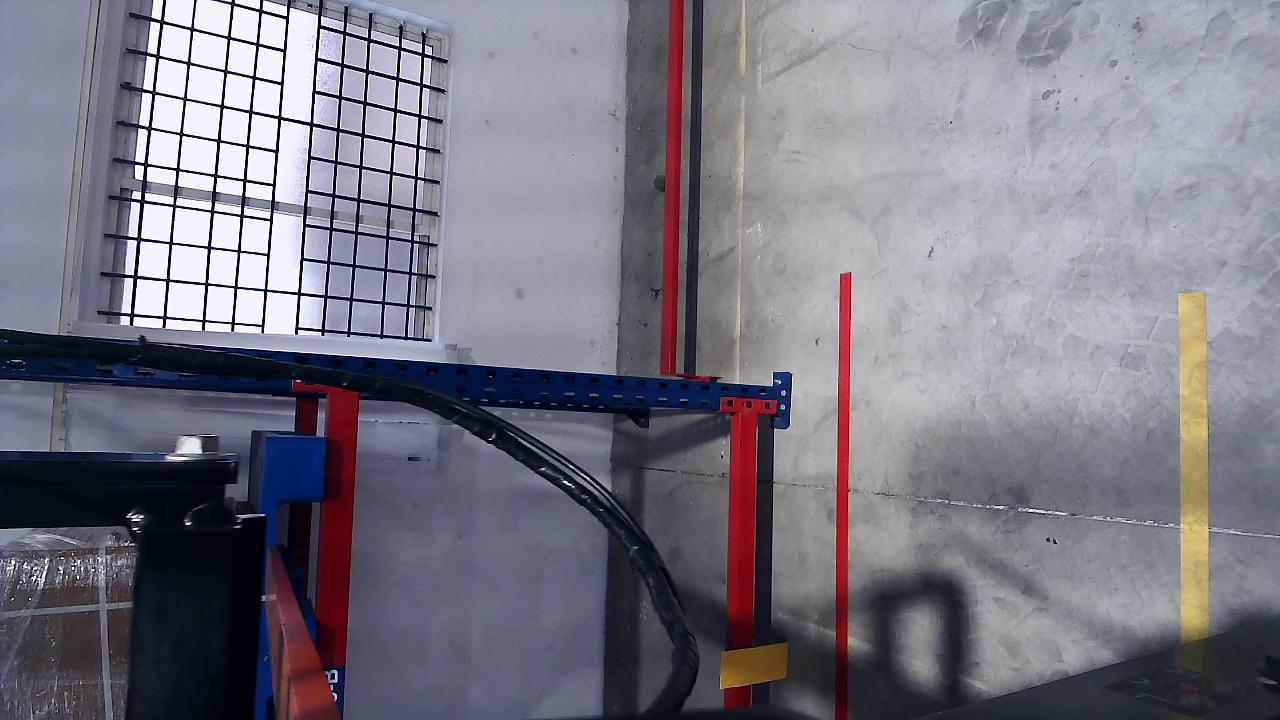h_rack: (309, 391, 362, 717), (728, 413, 760, 709)
orange_strip: (718, 642, 788, 689)
red_line: (832, 277, 851, 714)
yellow_line: (1177, 292, 1210, 638)
